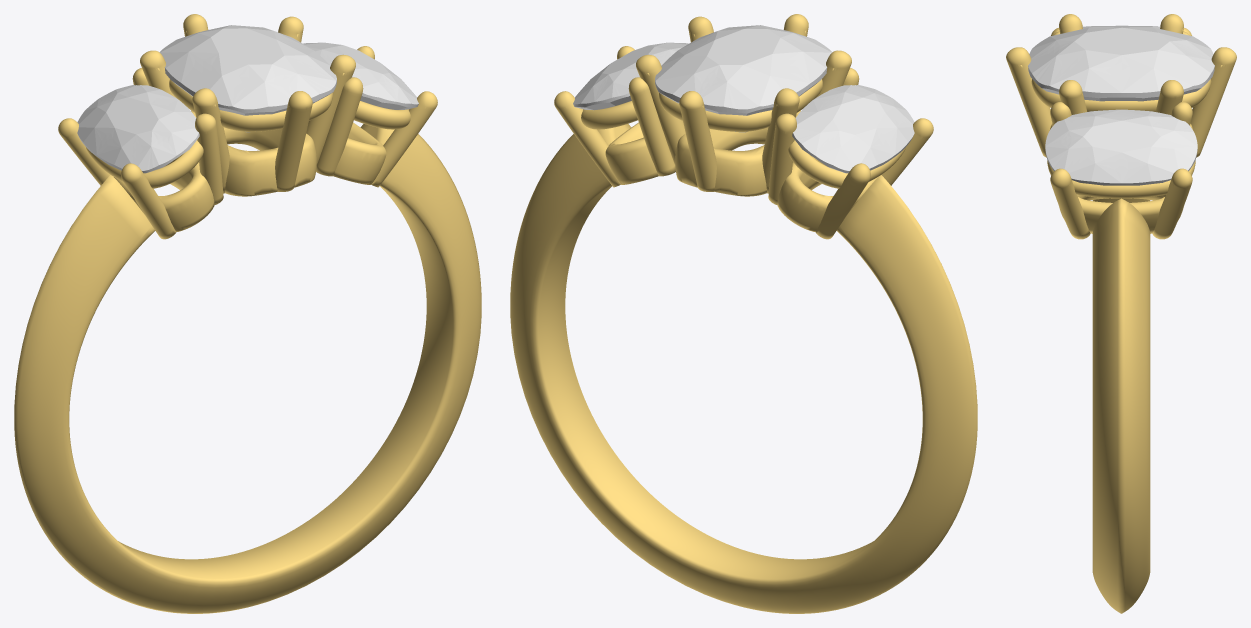
The model's file is diamond-cushion-yellowgold-6prong-knifeedge-3stone.glb.
3 renders of one model, left to right at view 1: azimuth 30°, elevation 25°; view 2: azimuth 150°, elevation 25°; view 3: azimuth 270°, elevation 25°, orthographic. The views are drawn at different scales.
Visible parts, largest first — view 1: metal.003, stone.002, side.004, side.005; view 2: metal.003, stone.002, side.004, side.005; view 3: metal.003, stone.002, side.005.
Boxes of the visible parts, left/top/right/bottom form: metal.003: left=14, top=14, right=481, bottom=613; stone.002: left=159, top=25, right=336, bottom=132; side.004: left=77, top=85, right=199, bottom=173; side.005: left=303, top=42, right=418, bottom=109; metal.003: left=510, top=14, right=977, bottom=613; stone.002: left=655, top=25, right=832, bottom=132; side.004: left=792, top=85, right=914, bottom=173; side.005: left=573, top=42, right=688, bottom=110; metal.003: left=1006, top=14, right=1236, bottom=613; stone.002: left=1028, top=27, right=1214, bottom=101; side.005: left=1045, top=109, right=1197, bottom=185.
Bounding box in the file's own units: 20.1 × 23.03 × 8.8.
